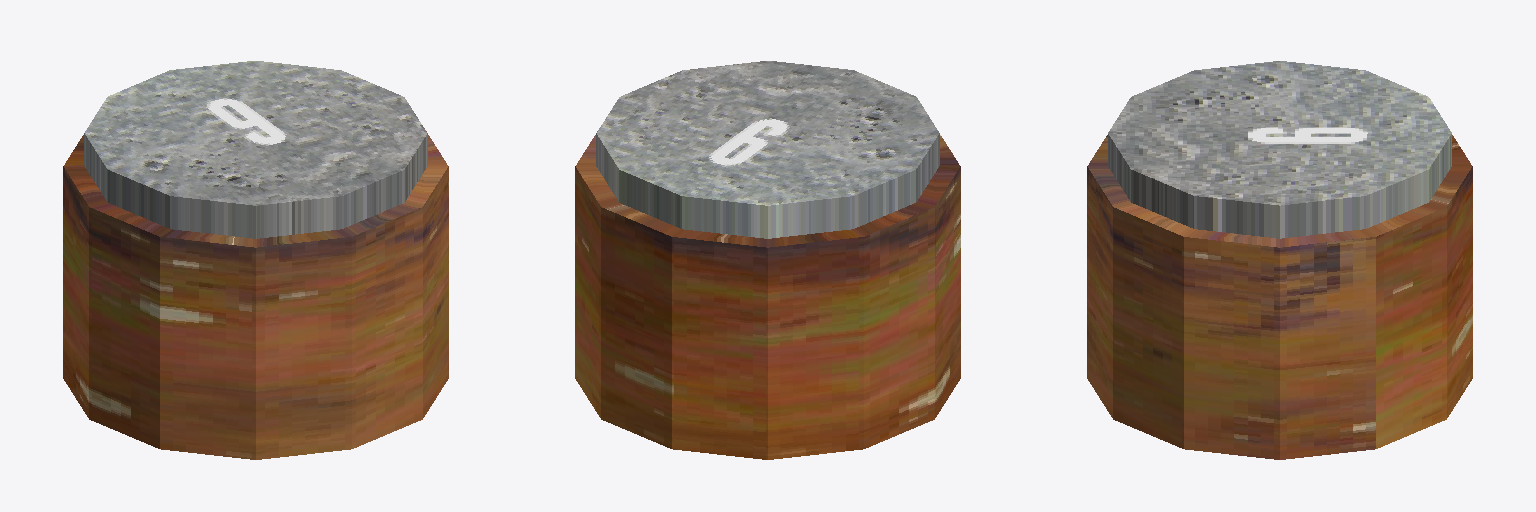
3 views of the same model, side by side, from view 1: azimuth 30°, elevation 25°; view 2: azimuth 150°, elevation 25°; view 3: azimuth 270°, elevation 25° (orthographic).
Parts seen in each view (by area): view 1: pCylinder1; view 2: pCylinder1; view 3: pCylinder1.
Boxes of the visible parts, x1=… form: pCylinder1: x1=63, y1=61, x2=448, y2=459; pCylinder1: x1=575, y1=61, x2=960, y2=459; pCylinder1: x1=1087, y1=61, x2=1472, y2=459.
Size of the model in its own units: 1.35 by 0.9531 by 1.35.
2 materials, 2 textured.